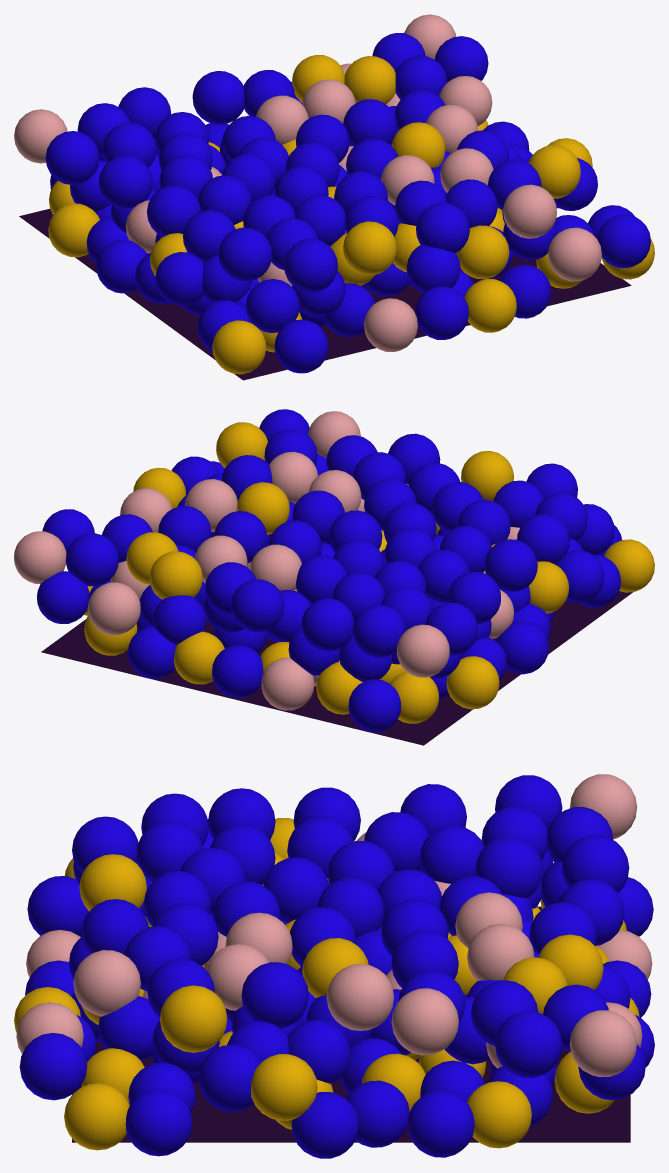
The model's file is Ballpit2_HP.fbx.
3 views of the same model, one above another, from view 1: azimuth 30°, elevation 25°; view 2: azimuth 150°, elevation 25°; view 3: azimuth 270°, elevation 25° (orthographic). The views are drawn at different scales.
Parts seen in each view (by area): view 1: ballpit_HP; view 2: ballpit_HP; view 3: ballpit_HP.
Boxes of the visible parts, <box> form: ballpit_HP: <box>14,14,654,380</box>; ballpit_HP: <box>14,409,654,745</box>; ballpit_HP: <box>14,774,654,1158</box>.
Size of the model in its own units: 234 by 57.2 by 229.
